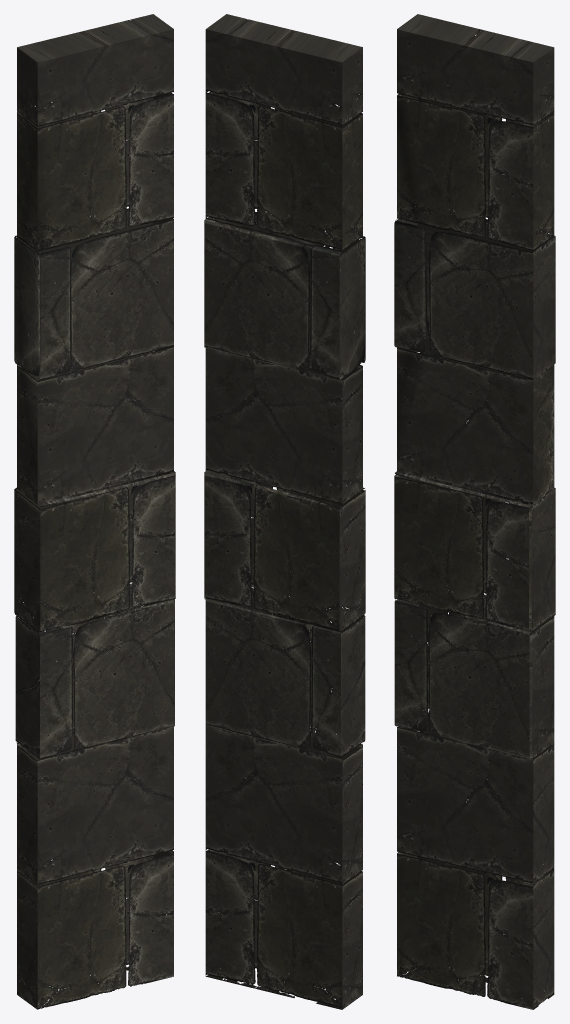
3 views of the same model, side by side, from view 1: azimuth 30°, elevation 25°; view 2: azimuth 150°, elevation 25°; view 3: azimuth 330°, elevation 25° (orthographic).
Visible parts, largest first — view 1: SM_Greathall_Flying_Buttress_Fill_01_LOD0; view 2: SM_Greathall_Flying_Buttress_Fill_01_LOD0; view 3: SM_Greathall_Flying_Buttress_Fill_01_LOD0.
Boxes of the visible parts, x1,y1,x2,y2 form: SM_Greathall_Flying_Buttress_Fill_01_LOD0: (14, 14, 175, 1009); SM_Greathall_Flying_Buttress_Fill_01_LOD0: (204, 14, 365, 1009); SM_Greathall_Flying_Buttress_Fill_01_LOD0: (394, 14, 555, 1009).
Size of the model in its own units: 1.51 by 10 by 0.5005.
1 material, 1 textured.
